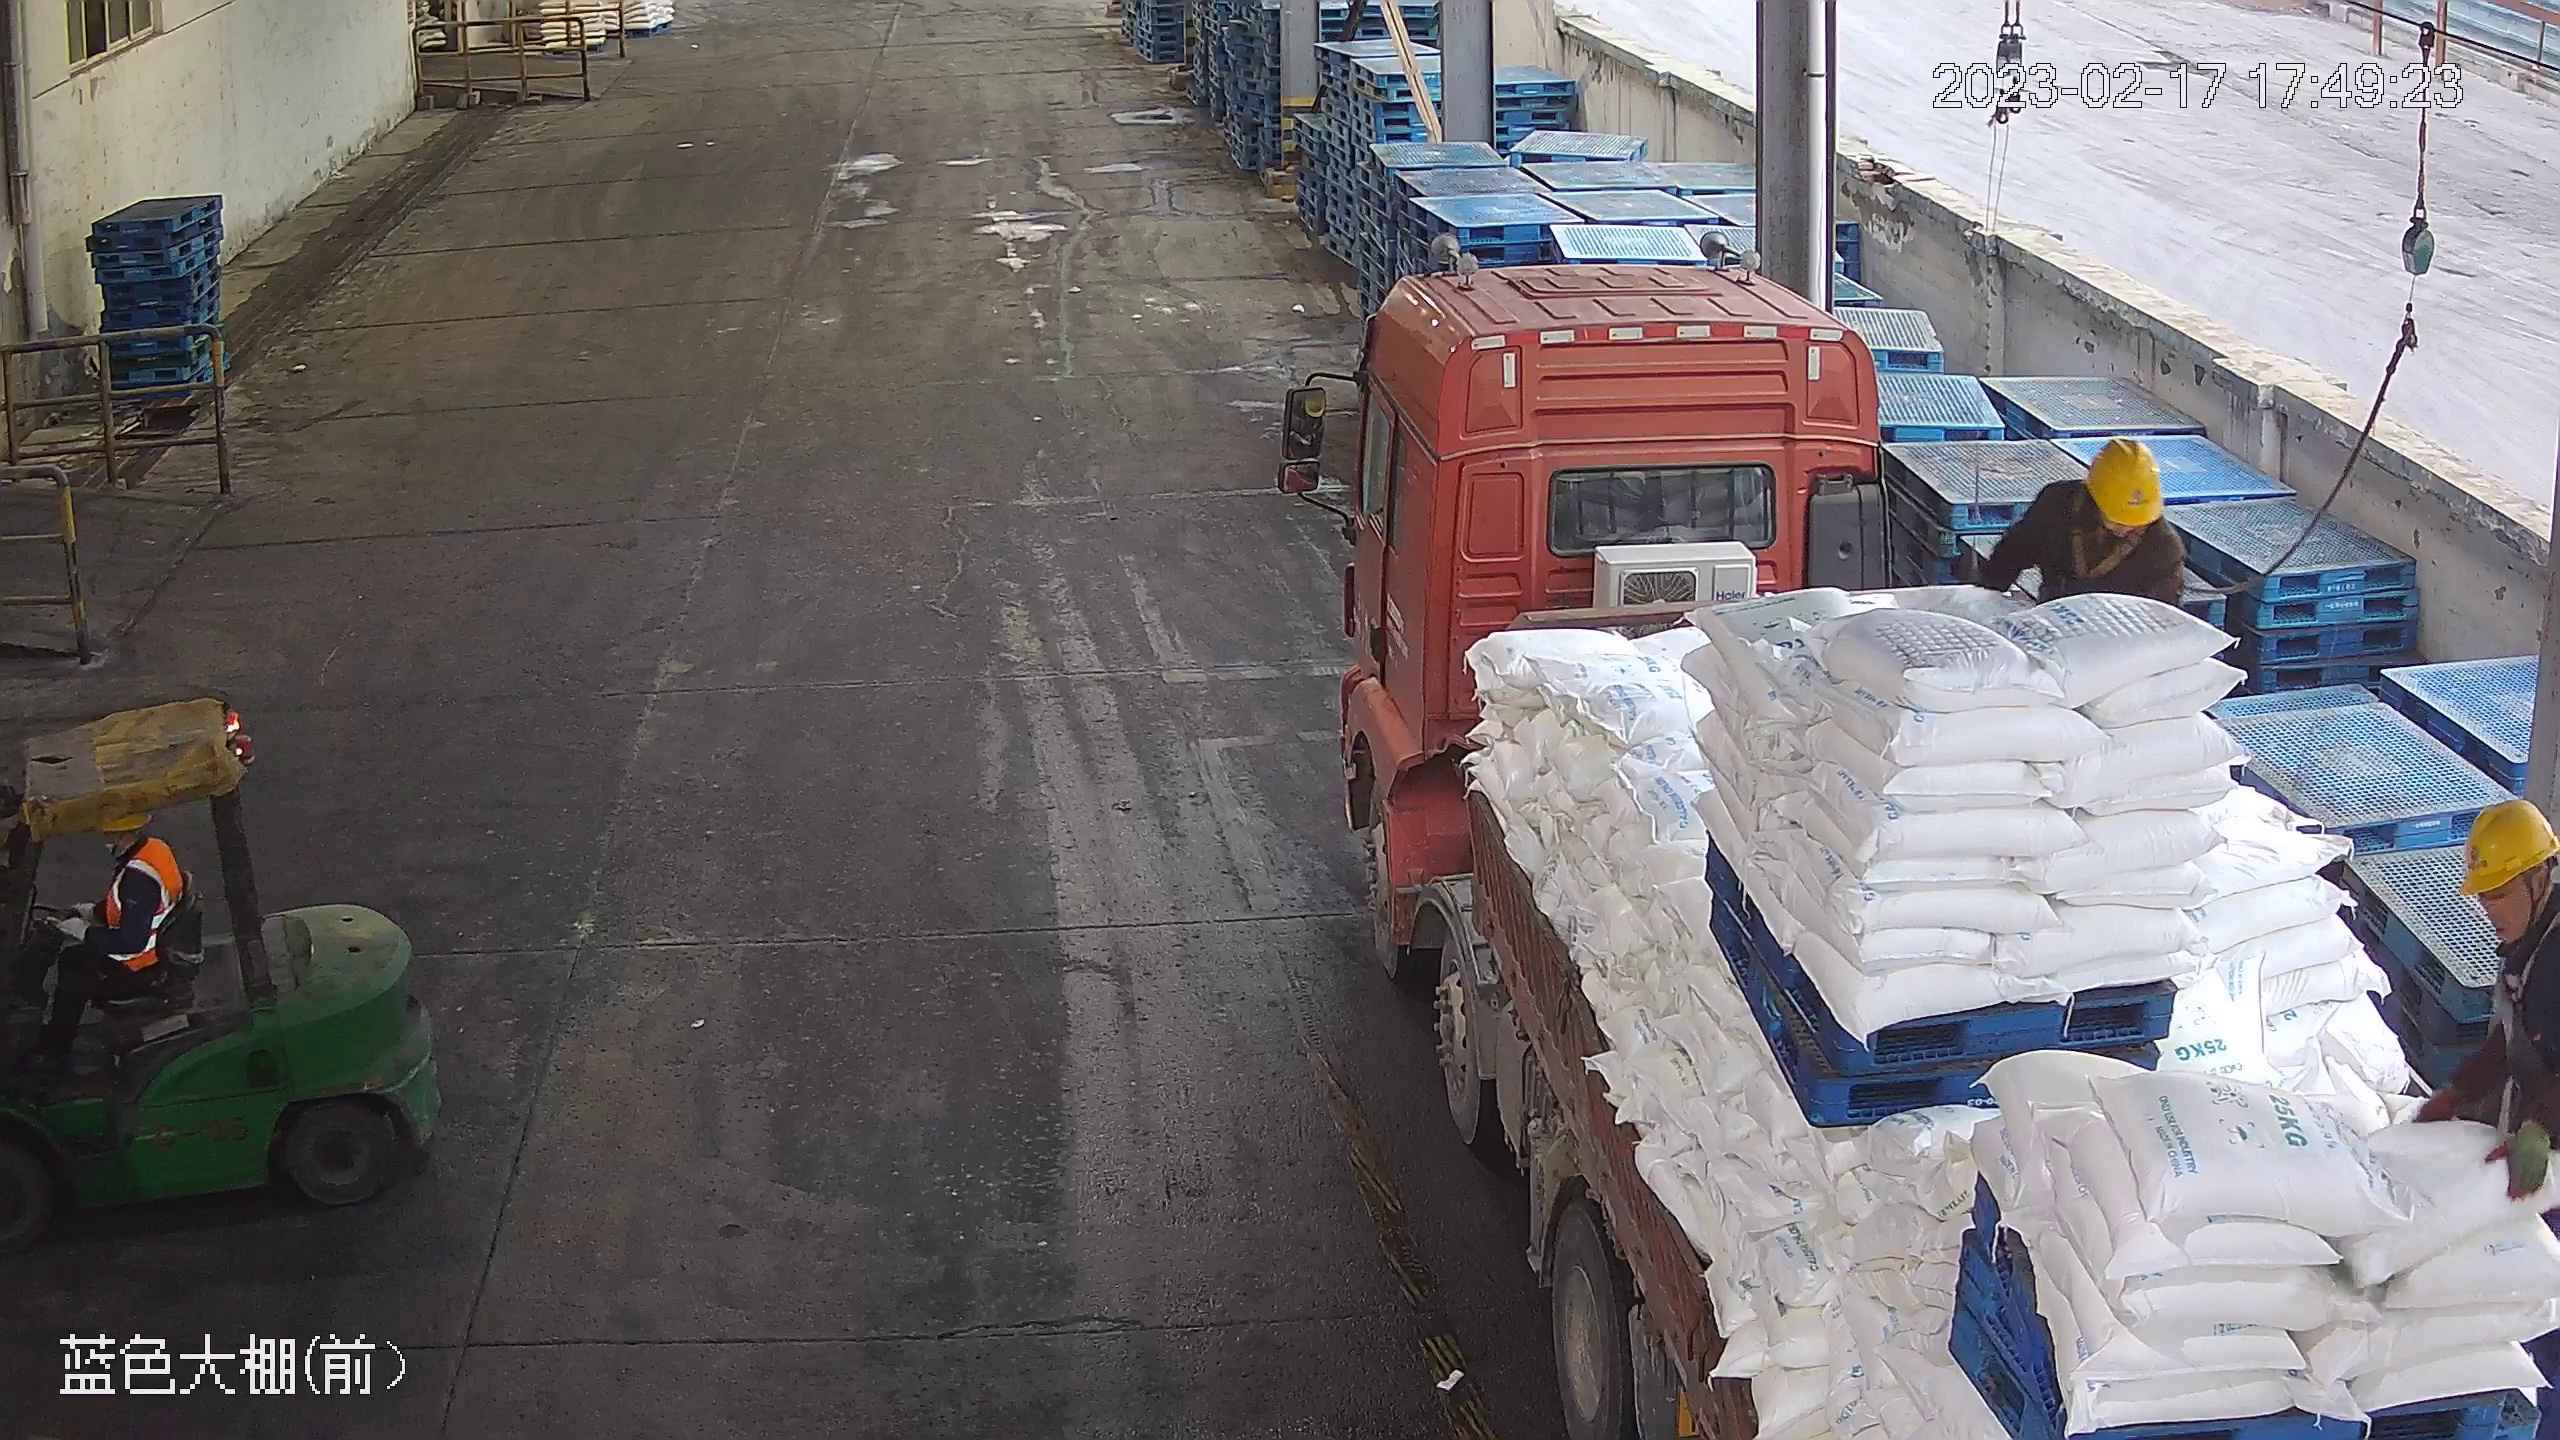belt: (2478, 958, 2560, 1067), (2059, 495, 2154, 586)
head: (2454, 793, 2560, 1021), (2018, 433, 2183, 557), (91, 812, 189, 900)
helmet: (2452, 796, 2560, 898), (2083, 435, 2164, 525)
people: (2402, 796, 2559, 1433), (6, 809, 197, 1061)
truck: (1276, 253, 2559, 1440)
